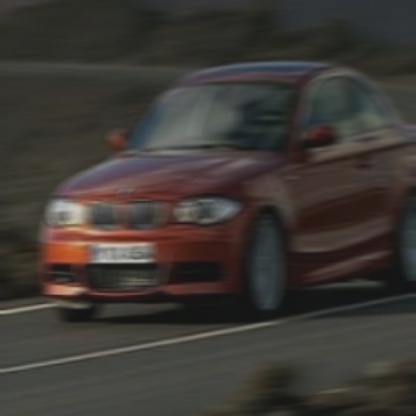Vehicle: (30, 37, 415, 340)
